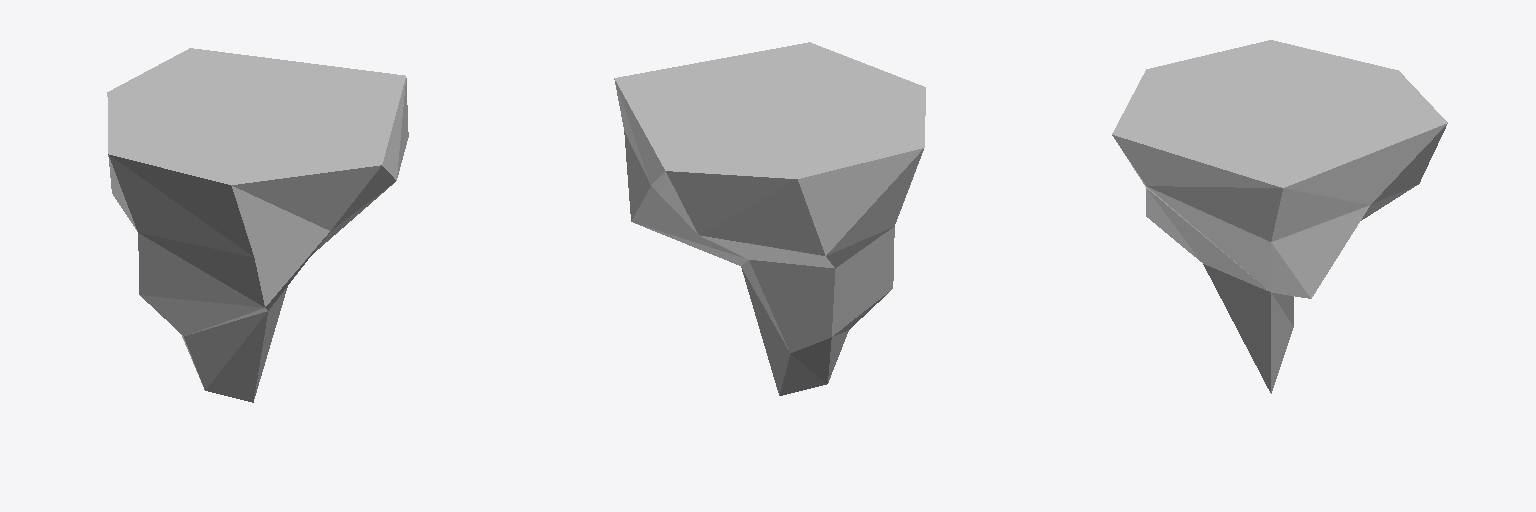
Rendered from island-low.obj.
3 views of the same model, side by side, from view 1: azimuth 30°, elevation 25°; view 2: azimuth 150°, elevation 25°; view 3: azimuth 270°, elevation 25° (orthographic).
Parts seen in each view (by area): view 1: Mesh_Cube; view 2: Mesh_Cube; view 3: Mesh_Cube.
Part boxes in pixels (x1,y1,x2,y2): Mesh_Cube: (107, 48, 408, 402); Mesh_Cube: (614, 42, 925, 395); Mesh_Cube: (1112, 40, 1447, 393).
Size of the model in its own units: 2.39 by 2.13 by 2.28.